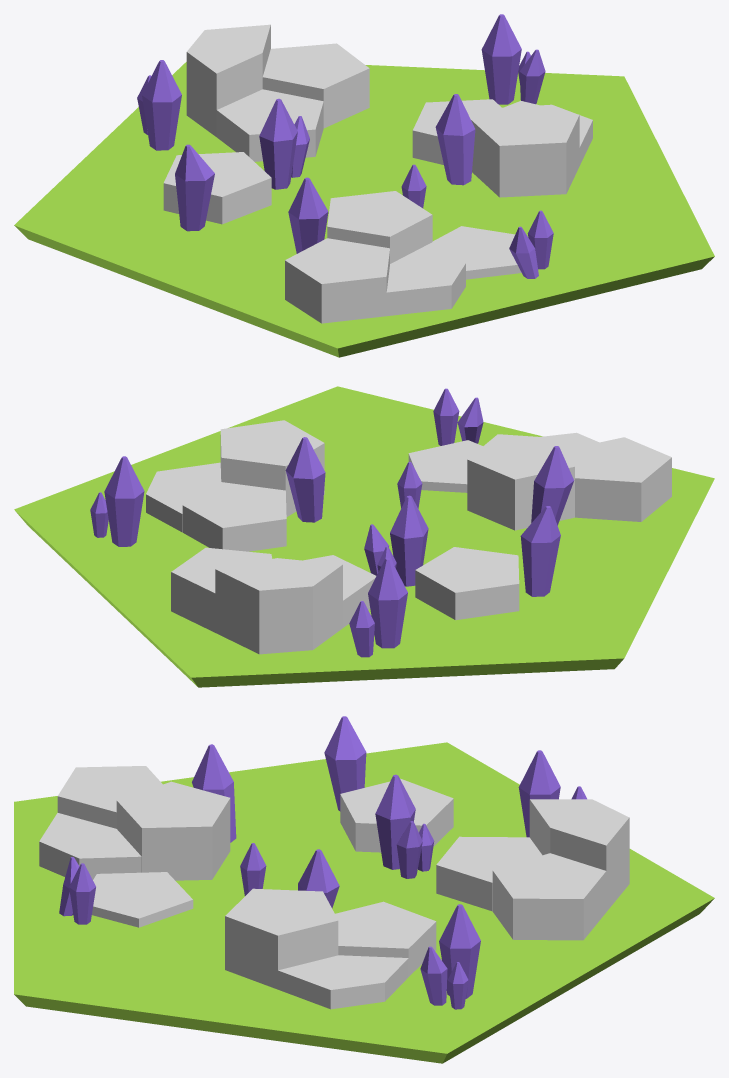
Rendered from RockTilesCrystal_purple.fbx.
The picture shows the model from 3 angles, top to bottom: view 1: azimuth 30°, elevation 25°; view 2: azimuth 150°, elevation 25°; view 3: azimuth 270°, elevation 25°; orthographic projection. The views are drawn at different scales.
Visible parts, largest first — view 1: origine.003; view 2: origine.003; view 3: origine.003.
Part boxes in pixels (x1,y1,x2,y2): origine.003: (14,14,714,357); origine.003: (14,386,714,687); origine.003: (14,716,714,1063).
Bounding box in the file's own units: 111 × 17.38 × 105.
